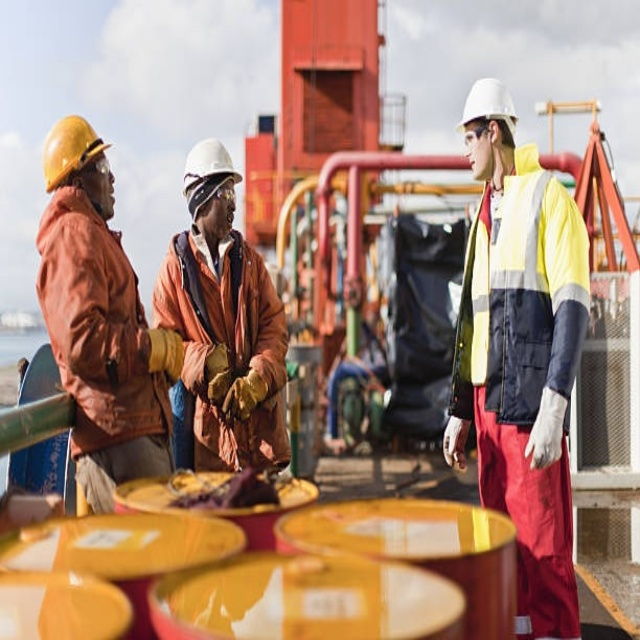Gafas: (459, 122, 490, 149), (77, 157, 112, 177), (211, 187, 237, 201)
Guantes: (521, 386, 571, 471), (222, 362, 270, 425), (144, 322, 188, 378), (441, 411, 466, 471)
Sin_mascara: (465, 152, 484, 177), (216, 210, 236, 231), (101, 184, 117, 210)
